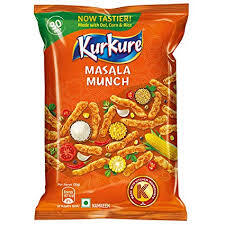VEG: (81, 198, 90, 208)
